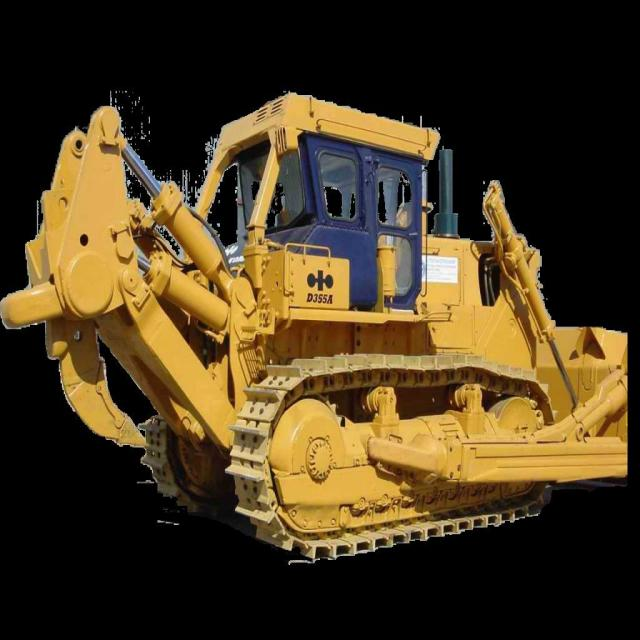buldozerpayloadergrader: (4, 55, 629, 566)
